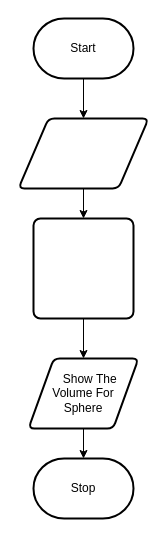
Image size: 166x536. Some labels were removed from this diagram. The shapes that lost their labels are listed below. From the top down, each one's centre as x and y in pixels, then its label:
[83,153]: Enter Radius For The Volume Of Sphere
[83,268]: 4 / 3 π r ^ 3
